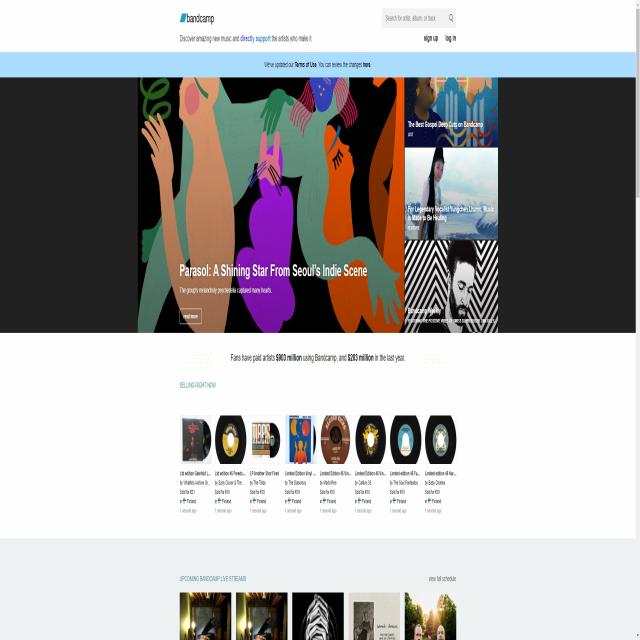menu-bar: (420, 31, 460, 45)
